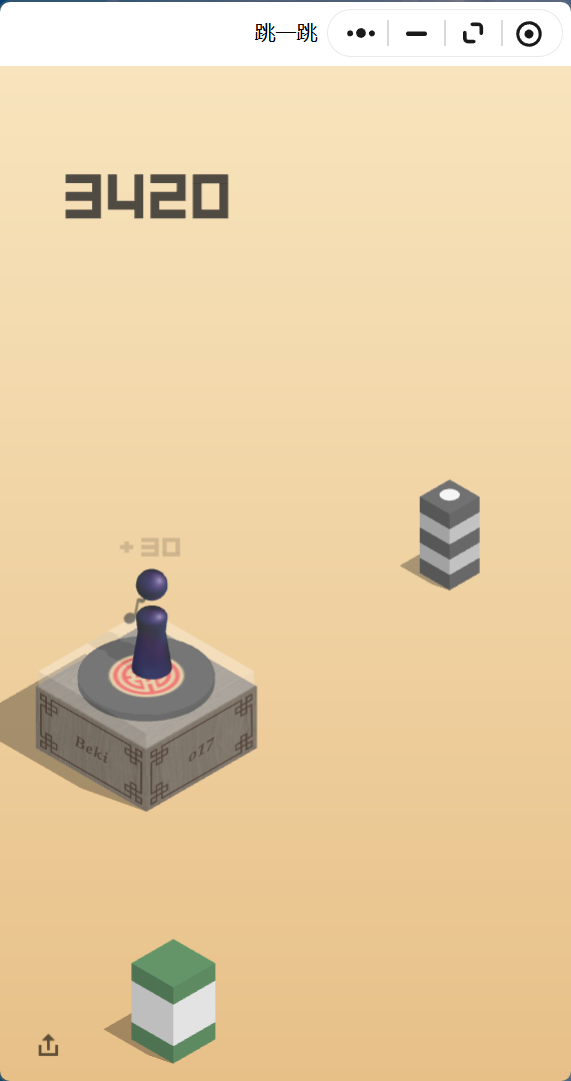piece: (136, 570, 167, 676)
target: (419, 479, 480, 513)
